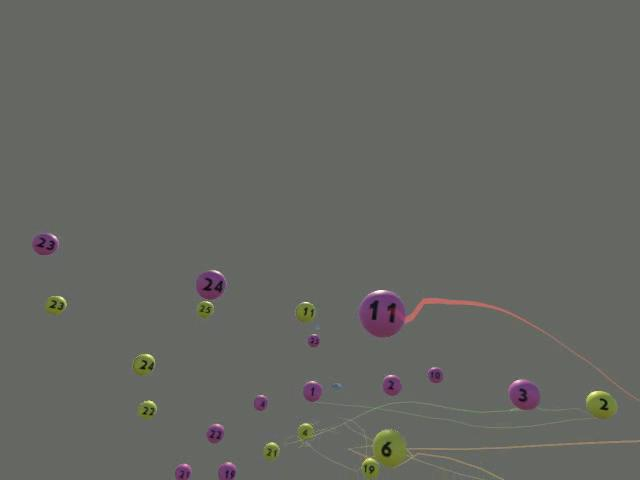ball_01_pink: (302, 380, 322, 401)
ball_02_pink: (382, 374, 401, 395)
ball_02_yellow: (585, 390, 617, 418)
ball_03_pink: (507, 379, 540, 410)
ball_04_pink: (253, 395, 268, 410)
ball_04_yellow: (296, 423, 313, 440)
ball_06_yellow: (372, 428, 406, 467)
ball_10_pink: (427, 366, 443, 383)
ball_11_pink: (358, 289, 405, 337)
ball_11_yellow: (294, 301, 315, 322)
ball_19_pink: (217, 461, 236, 479)
ball_19_yellow: (361, 457, 379, 478)
ball_21_pink: (174, 463, 191, 479)
ball_21_yellow: (263, 440, 279, 459)
ball_22_pink: (206, 423, 224, 443)
ball_22_yellow: (137, 401, 156, 418)
ball_23_pink: (31, 232, 59, 255)
ball_23_yellow: (44, 295, 66, 315)
ball_24_pink: (196, 270, 226, 299)
ball_24_yellow: (132, 353, 155, 375)
ball_25_pink: (308, 334, 320, 348)
ball_25_yellow: (196, 300, 213, 317)
